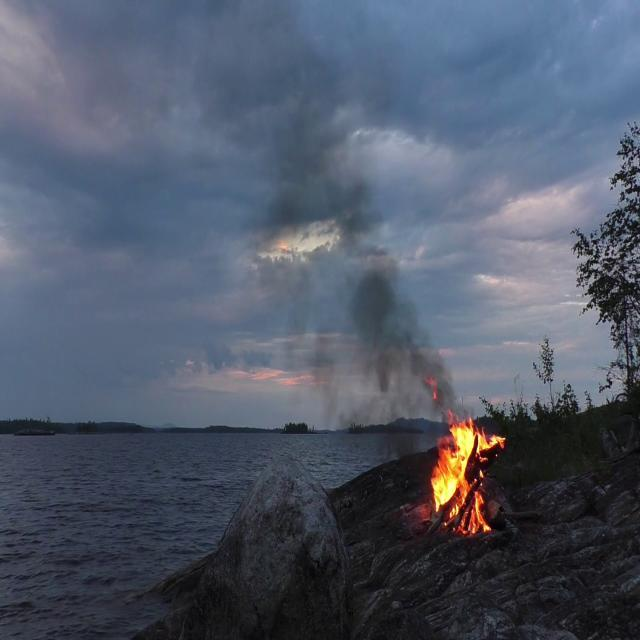Fire: (424, 408, 502, 534)
Smoke: (272, 95, 447, 428)
